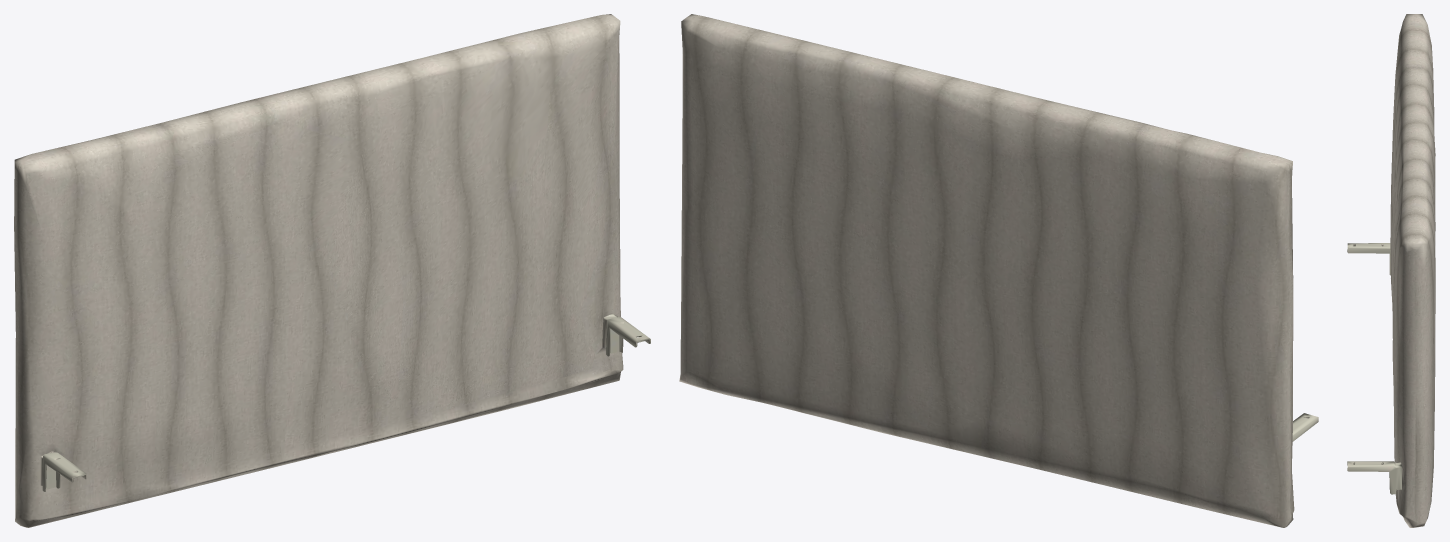
The model's file is 12 - MITTZON - 辦公桌隔音屏, Gunnared 米色, 125x72 公分 IKEA 線上購物.glb.
3 renders of one model, left to right at view 1: azimuth 30°, elevation 25°; view 2: azimuth 150°, elevation 25°; view 3: azimuth 270°, elevation 25°, orthographic. The views are drawn at different scales.
Visible parts, largest first — view 1: model; view 2: model; view 3: model.
Boxes of the visible parts, x1,y1,x2,y2 form: model: (14, 14, 650, 527); model: (679, 14, 1318, 527); model: (1347, 14, 1435, 527).
Bounding box in the file's own units: 1.25 × 0.7287 × 0.2021.
Materials: 1 (1 with a texture image).
